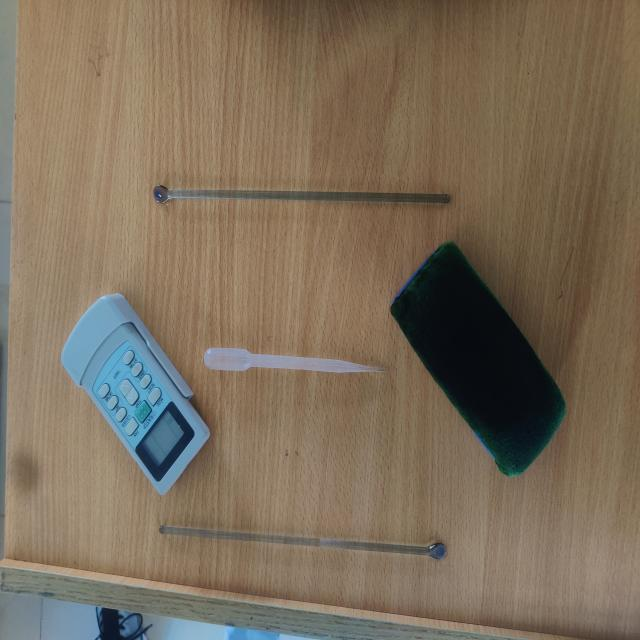Glass_Rod: (124, 474, 473, 603), (123, 139, 472, 243)
Pipette: (176, 301, 402, 422)
